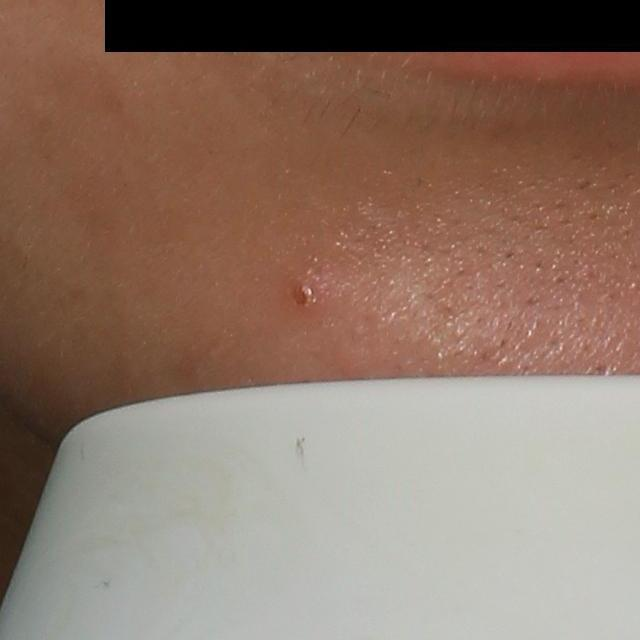papule: (283, 262, 336, 313)
